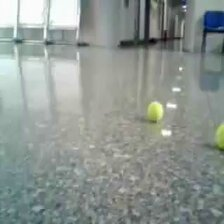tennis: (146, 100, 165, 122), (215, 122, 224, 150)
